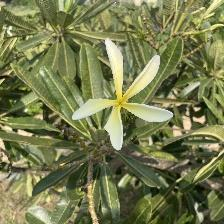champaka: (74, 35, 176, 154)
